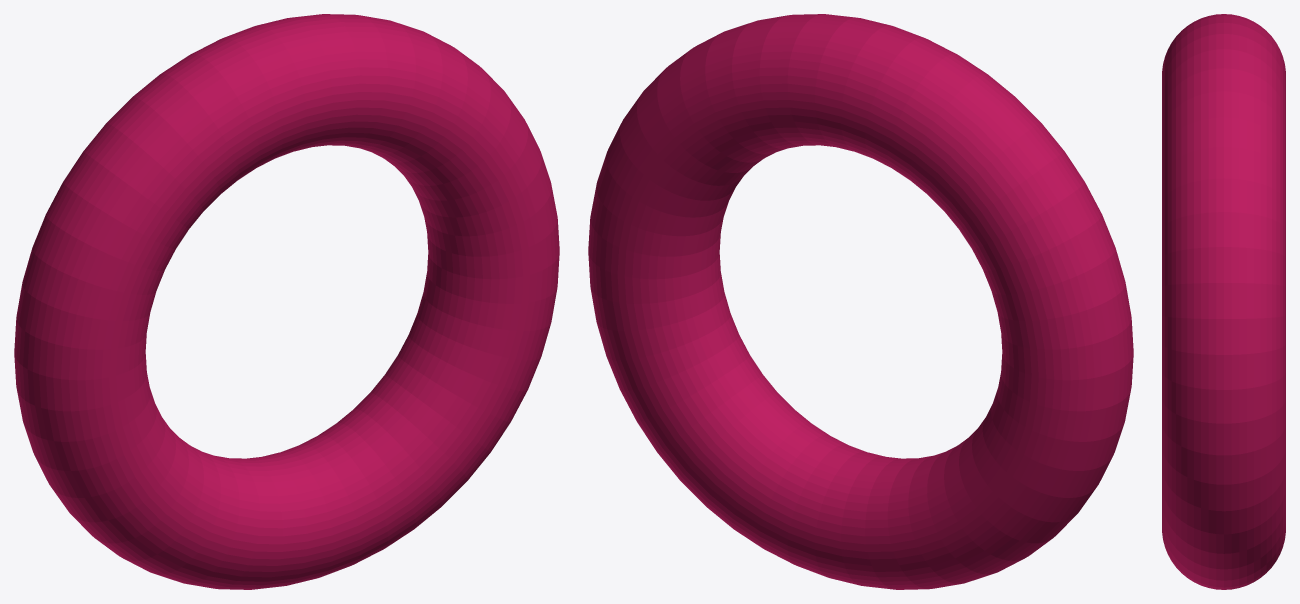
3 renders of one model, left to right at view 1: azimuth 30°, elevation 25°; view 2: azimuth 150°, elevation 25°; view 3: azimuth 270°, elevation 25°, orthographic. The views are drawn at different scales.
Visible parts, largest first — view 1: world; view 2: world; view 3: world.
Boxes of the visible parts, bbox=[...] form: world: bbox=[14, 14, 559, 589]; world: bbox=[588, 14, 1133, 589]; world: bbox=[1162, 14, 1285, 589].
Bounding box in the file's own units: 34 × 33.93 × 7.32.
